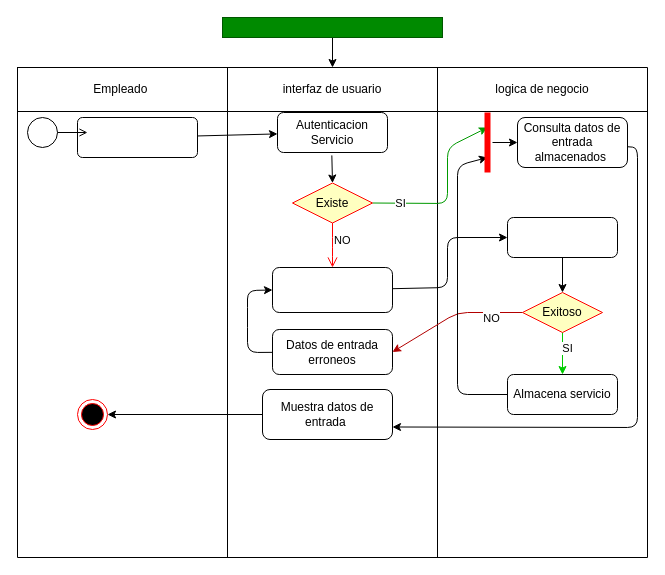
The diagram is 665 pixels wide and 575 high, and some of its shapes have lost their labels. The centre of each missing label's shape, as x and y in pixels:
Ingresa un servicio: point 137,137
MUESTRA y REGISTRA SERVICIOS: point 332,27
registra datos de entrada: point 332,289
Valida datos de entrada: point 562,237
